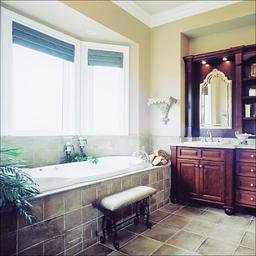Lavamanos: (190, 131, 226, 149)
Ventana: (10, 31, 62, 129), (87, 55, 131, 134)
